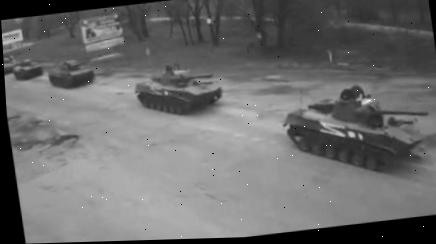tank: (275, 74, 436, 183), (130, 57, 224, 120), (44, 55, 95, 90), (9, 55, 43, 81), (3, 50, 18, 71)
